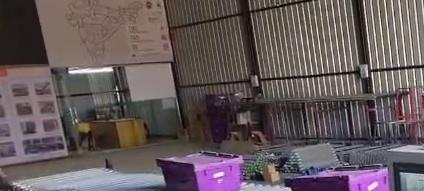box: (157, 152, 242, 190), (286, 166, 389, 190)
